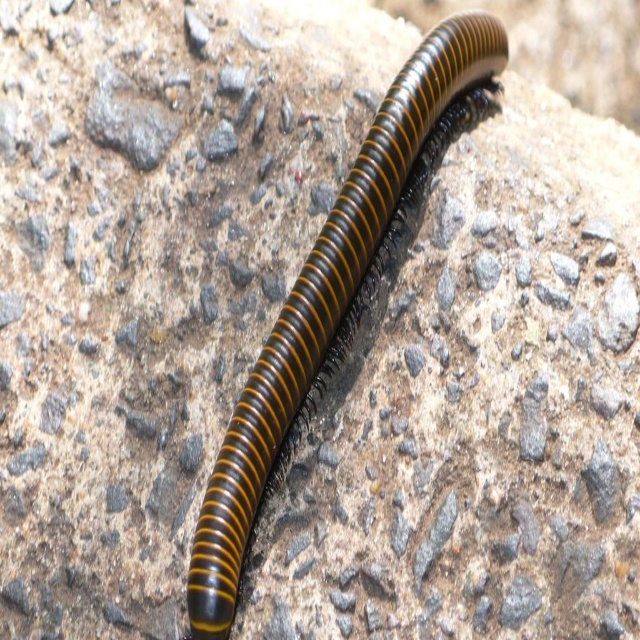Centipede: (188, 11, 508, 639)
